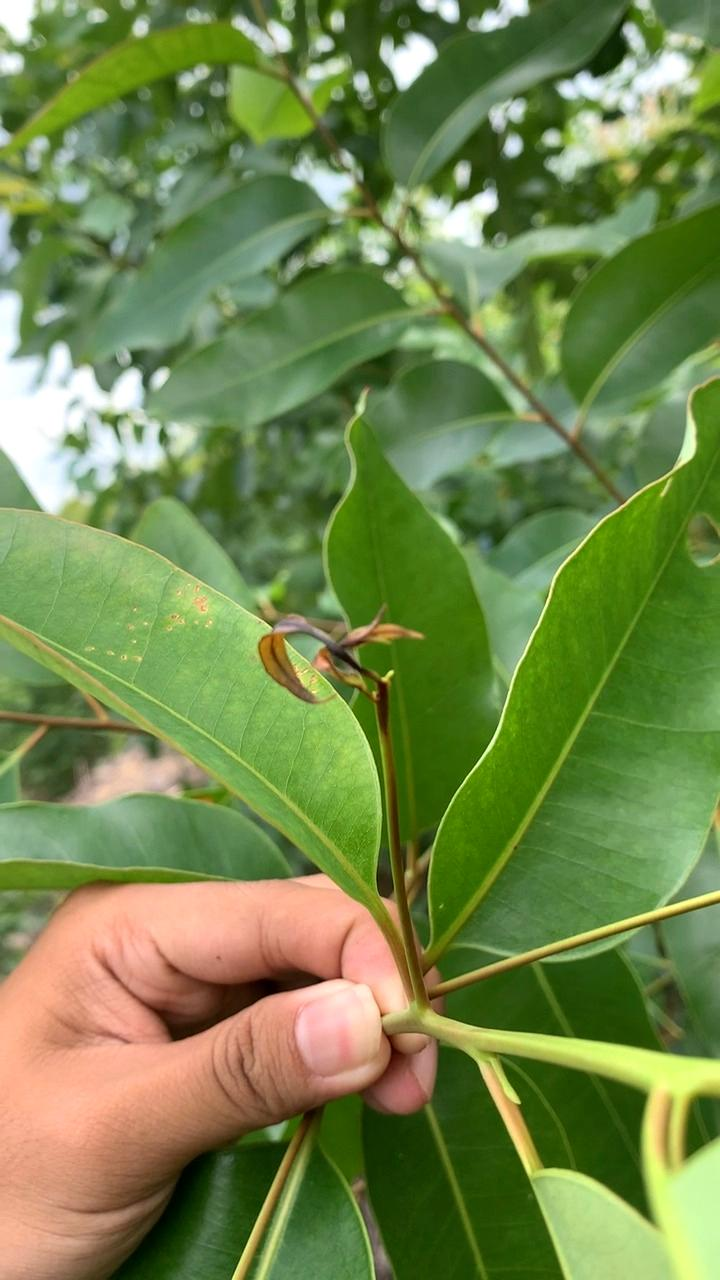Helopeltis-Withered Sprout: (246, 595, 427, 725)
